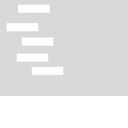square: (4, 19, 39, 33), (16, 2, 51, 14), (19, 35, 54, 47), (15, 51, 49, 63), (30, 65, 65, 76)
